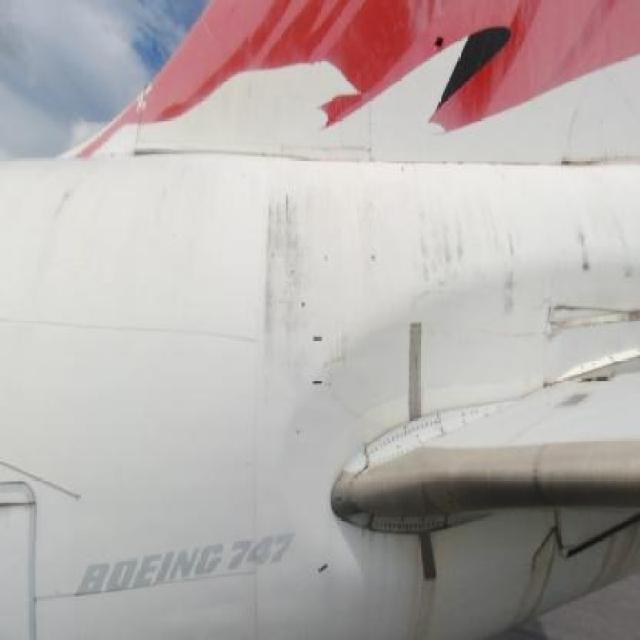Missing-Rivet: (362, 418, 448, 464), (371, 506, 463, 543)
Rust: (351, 172, 535, 318), (242, 171, 336, 367), (506, 517, 640, 631), (388, 529, 455, 640), (564, 197, 640, 282)
Scartch: (545, 300, 638, 352), (318, 335, 377, 416)
